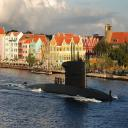submarine: (25, 42, 113, 102)
